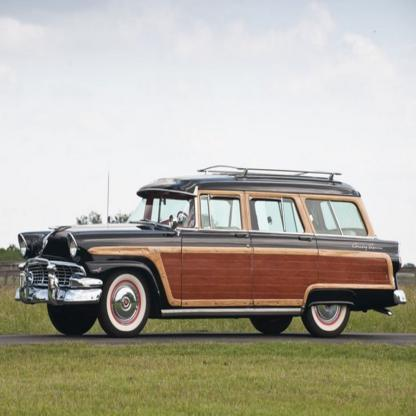Car: (15, 166, 406, 338)
